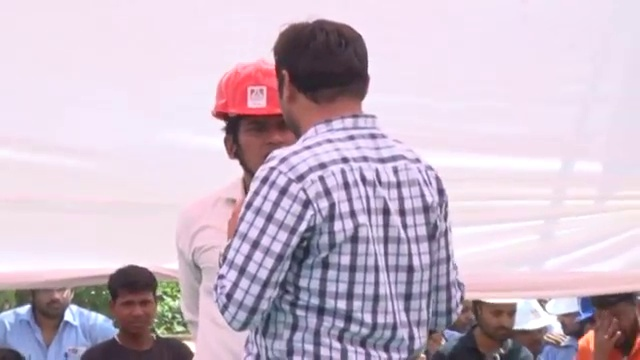helmet: (212, 71, 287, 125), (554, 300, 589, 322)
helmet_off: (267, 29, 370, 109), (108, 266, 159, 348), (589, 291, 639, 351), (471, 299, 522, 355), (23, 286, 70, 318)
helmet_on: (211, 73, 302, 175), (546, 299, 591, 343)
person: (217, 29, 457, 360), (172, 69, 305, 360), (76, 265, 196, 360), (0, 288, 117, 360), (446, 288, 536, 360), (575, 290, 640, 360), (537, 294, 591, 360)
